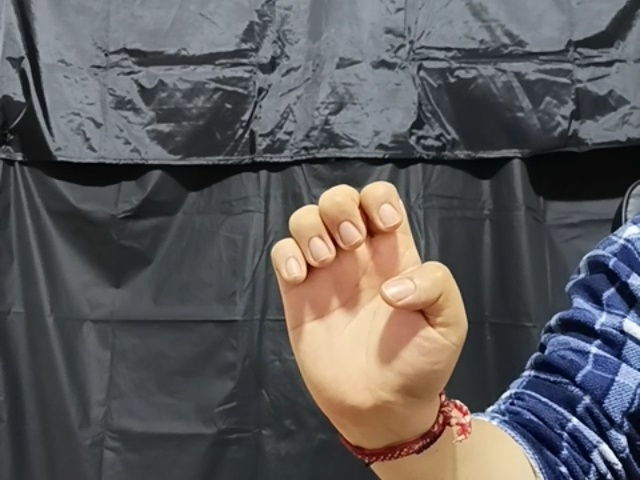E: (268, 180, 468, 434)
